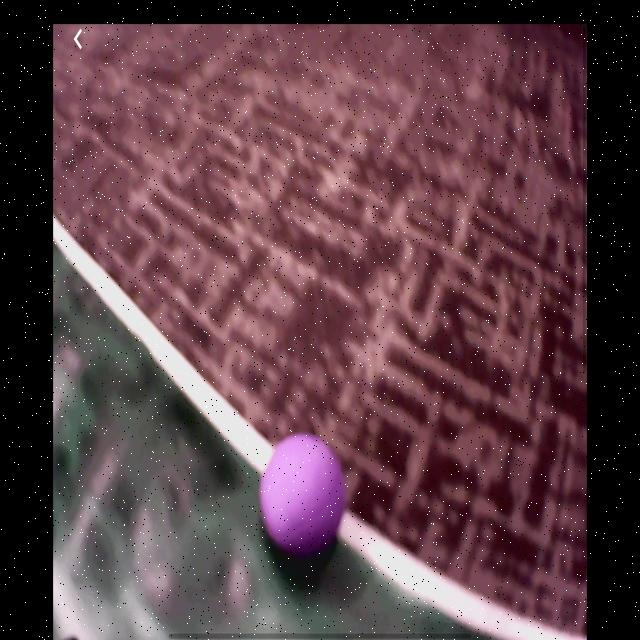ball: (259, 432, 348, 560)
